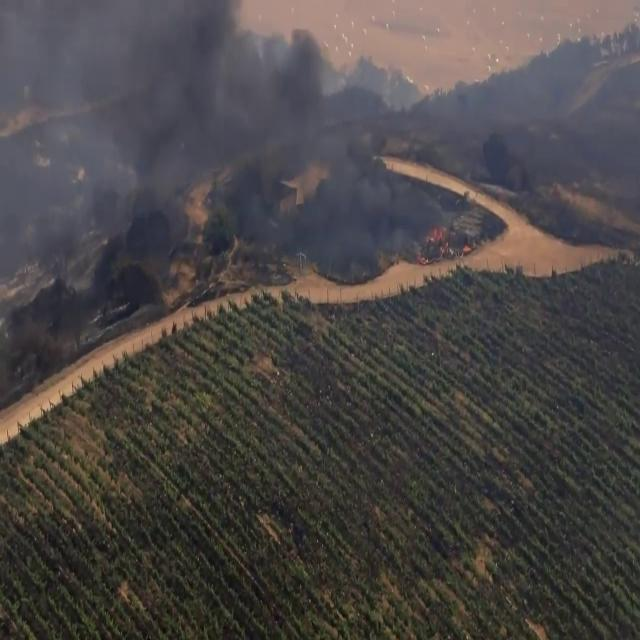Fire: (426, 228, 449, 246)
Smoke: (4, 12, 418, 272)
